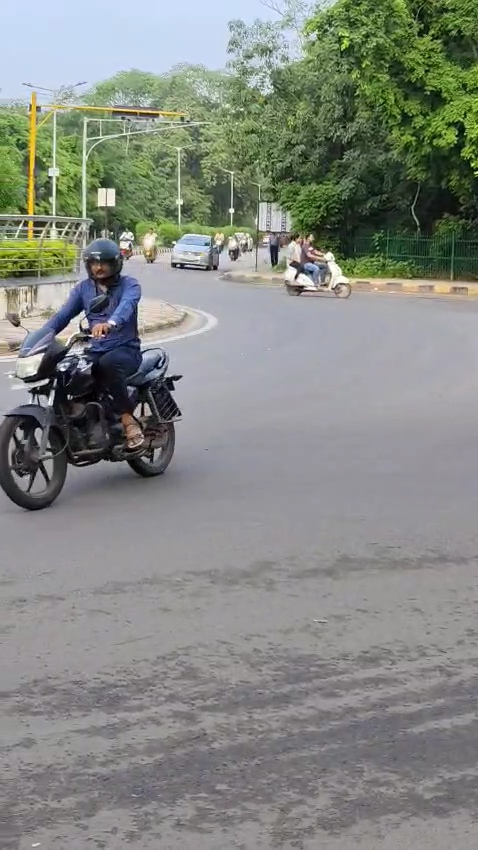BikeWithRider: (0, 231, 189, 517), (277, 228, 356, 302), (137, 225, 162, 265), (115, 225, 137, 262)
Helmet: (73, 233, 130, 292)
NoHelmet: (303, 230, 316, 244), (290, 230, 302, 243)
